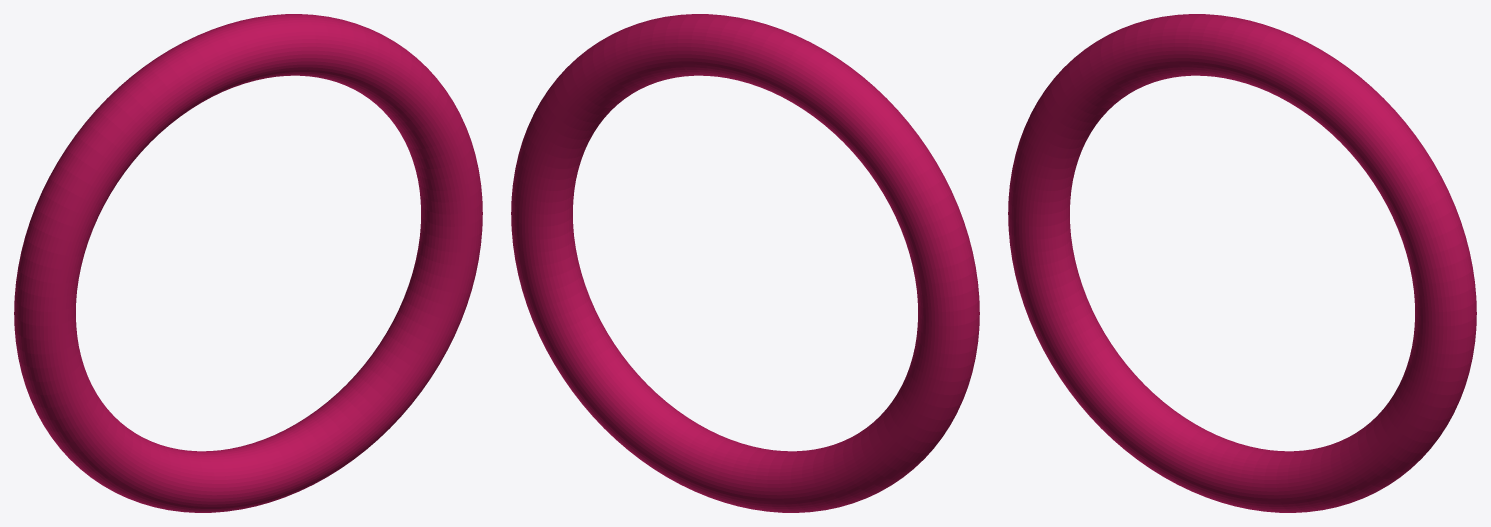
The picture shows the model from 3 angles, left to right: view 1: azimuth 30°, elevation 25°; view 2: azimuth 150°, elevation 25°; view 3: azimuth 330°, elevation 25°; orthographic projection.
Visible parts, largest first — view 1: world; view 2: world; view 3: world.
Part boxes in pixels (box(x1,y1,x2,y2)): world: box(14, 14, 482, 512); world: box(511, 14, 979, 512); world: box(1008, 14, 1476, 512).
Bounding box in the file's own units: 26.4 × 26.4 × 3.06.
